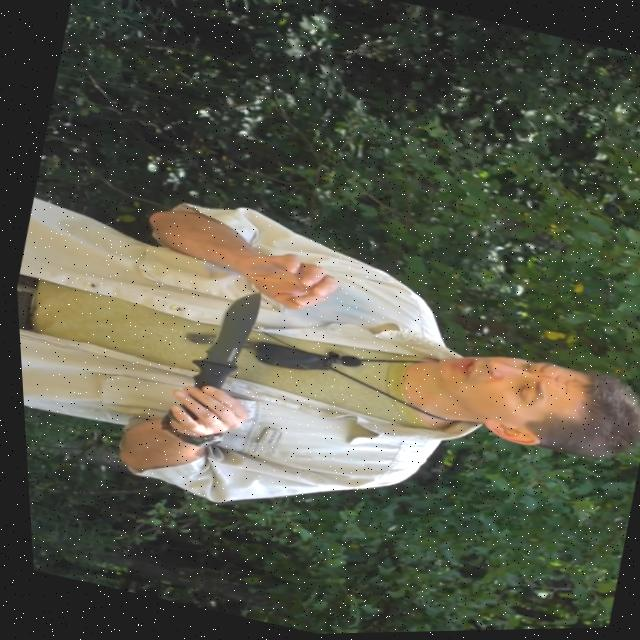knife: (173, 278, 276, 407)
